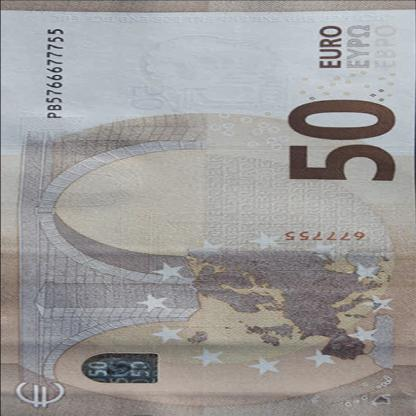euro_banknote: (2, 10, 416, 416)
